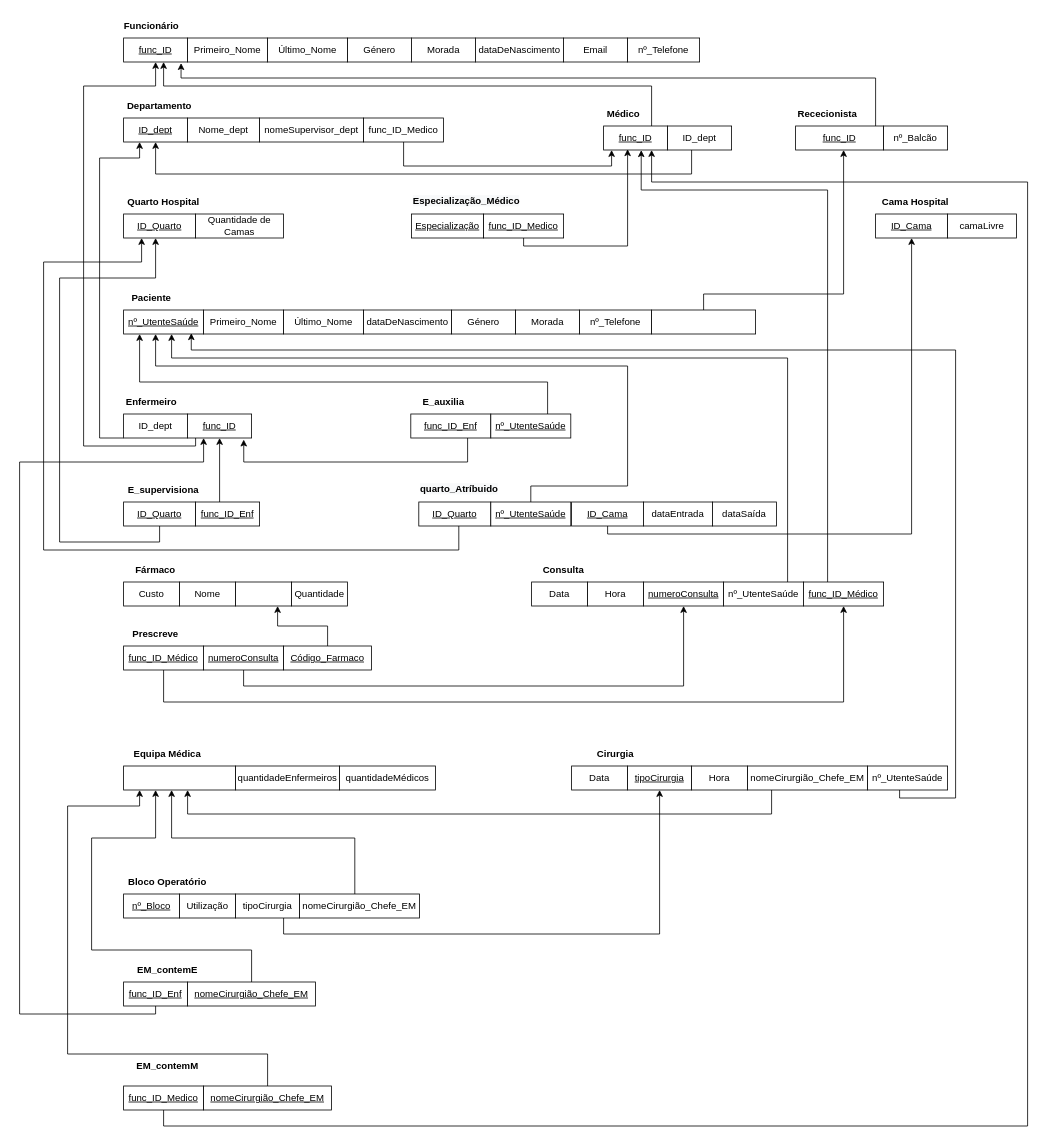
Image size: 1048x1146. Some labels were removed from this diagram. Each missing label, with the centre of its shape:
Código: the point at 263,593
func_ID_Rececionista: the point at 703,321
nomeCirurgião_Chefe: the point at 179,777
